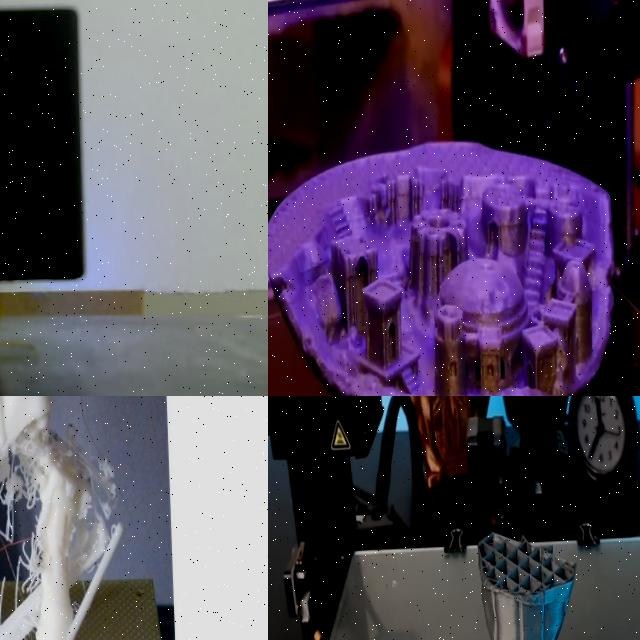spaghetti: (0, 427, 118, 640), (61, 414, 133, 620), (0, 491, 46, 638), (4, 421, 64, 496)
